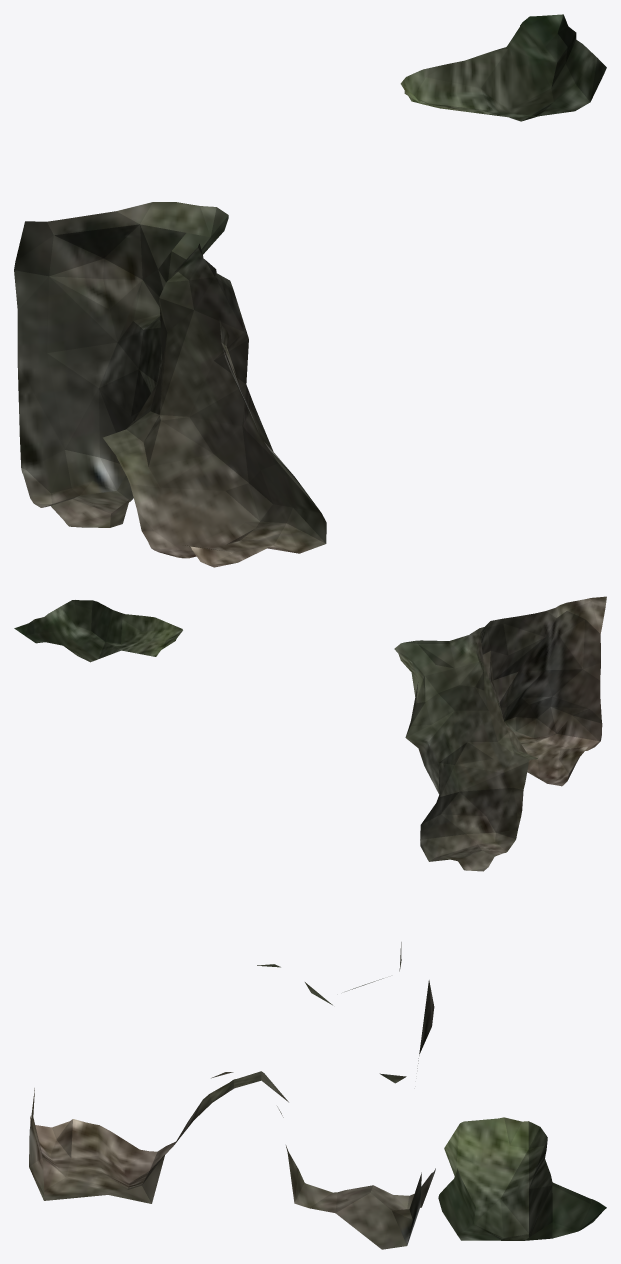
3 views of the same model, one above another, from view 1: azimuth 30°, elevation 25°; view 2: azimuth 150°, elevation 25°; view 3: azimuth 270°, elevation 25° (orthographic). The views are drawn at different scales.
Bounding box in the file's own units: 4.88 × 2.16 × 3.8.
Materials: 1 (1 with a texture image).
